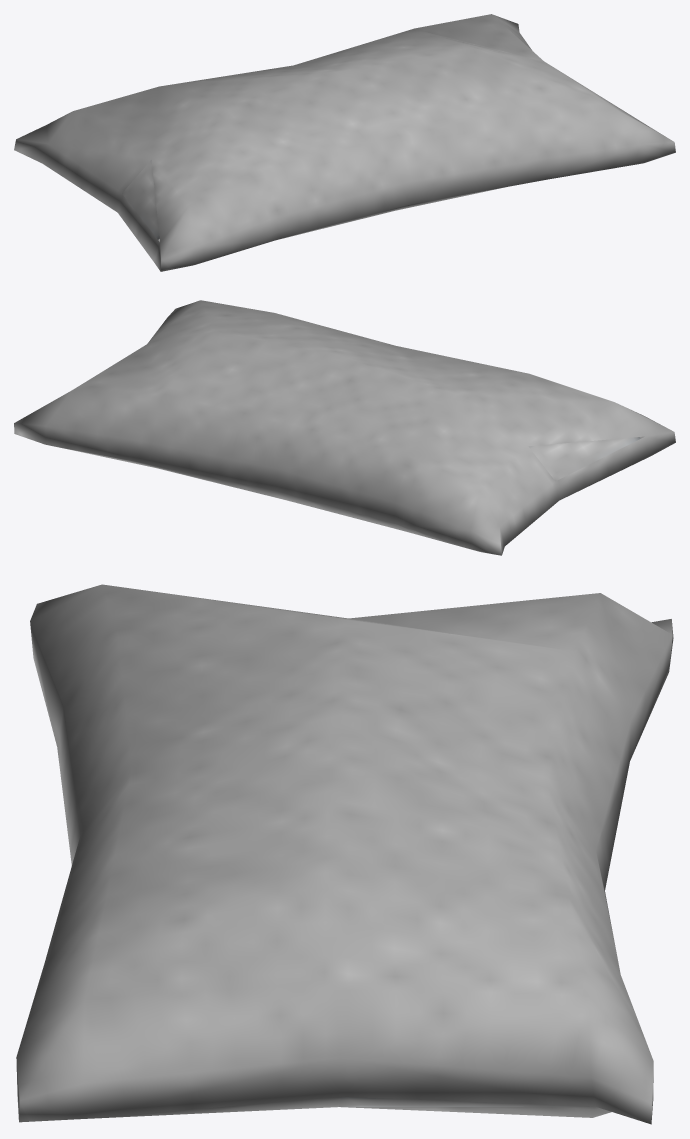
Rendered from double bed_pillow_2.fbx.
3 renders of one model, top to bottom at view 1: azimuth 30°, elevation 25°; view 2: azimuth 150°, elevation 25°; view 3: azimuth 270°, elevation 25°, orthographic. The views are drawn at different scales.
Visible parts, largest first — view 1: double_bed_pillow_2; view 2: double_bed_pillow_2; view 3: double_bed_pillow_2.
Part boxes in pixels (box(x1,y1,x2,y2)): double_bed_pillow_2: box(14, 14, 675, 271); double_bed_pillow_2: box(14, 300, 675, 555); double_bed_pillow_2: box(16, 584, 673, 1124).
Bounding box in the file's own units: 0.7472 × 0.15 × 0.4187.
